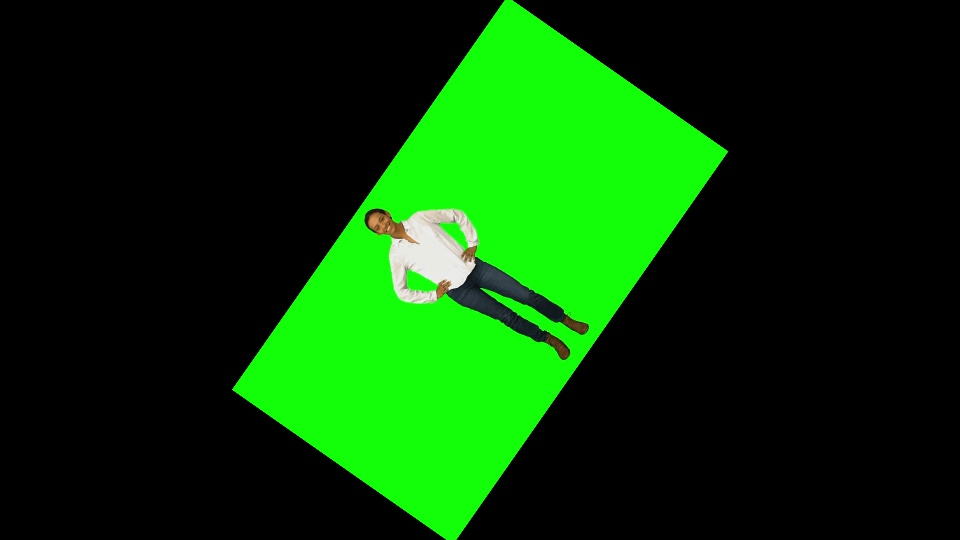arm: (416, 196, 490, 234), (377, 245, 417, 305)
chest: (402, 234, 471, 274)
face: (362, 208, 400, 233)
foot: (562, 315, 601, 336), (544, 336, 573, 361)
hand: (429, 277, 454, 303), (459, 240, 480, 261)
leg: (458, 283, 551, 341), (475, 263, 570, 316)
